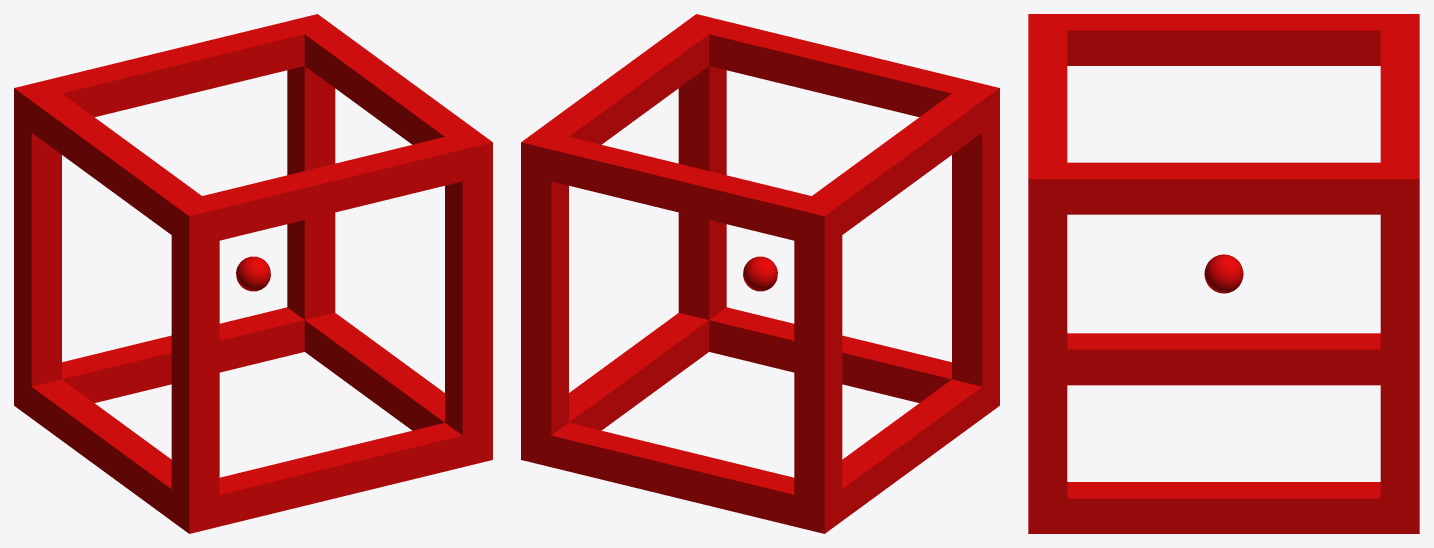
Rendered from debugMarkerBox.fbx.
3 views of the same model, side by side, from view 1: azimuth 30°, elevation 25°; view 2: azimuth 150°, elevation 25°; view 3: azimuth 270°, elevation 25° (orthographic). The views are drawn at different scales.
Parts seen in each view (by area): view 1: polySurface2; view 2: polySurface2; view 3: polySurface2.
Part boxes in pixels (left/top/right/bottom): polySurface2: left=14, top=14, right=492, bottom=533; polySurface2: left=521, top=14, right=999, bottom=533; polySurface2: left=1028, top=14, right=1419, bottom=533.
Size of the model in its own units: 1 by 1 by 1.
